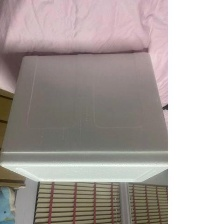foam_box: (0, 46, 168, 187)
